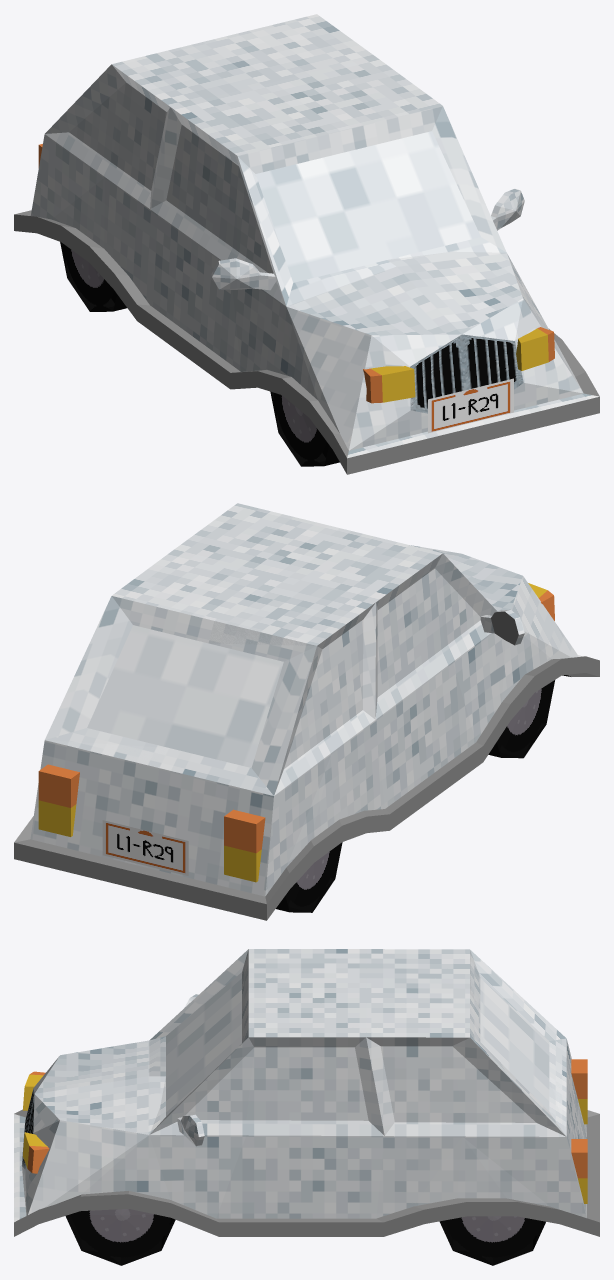
The model's file is LL-Car_2.fbx.
3 views of the same model, one above another, from view 1: azimuth 30°, elevation 25°; view 2: azimuth 150°, elevation 25°; view 3: azimuth 270°, elevation 25° (orthographic). The views are drawn at different scales.
Parts seen in each view (by area): view 1: Cube.001, Cube; view 2: Cube.001, Cube; view 3: Cube.001, Cube.
Boxes of the visible parts, x1,y1,x2,y2 form: Cube.001: (14, 14, 599, 474); Cube: (211, 188, 524, 290); Cube.001: (14, 503, 599, 920); Cube: (480, 609, 524, 645); Cube.001: (14, 949, 599, 1265); Cube: (177, 994, 204, 1146).
Bounding box in the file's own units: 305 × 238 × 562.
